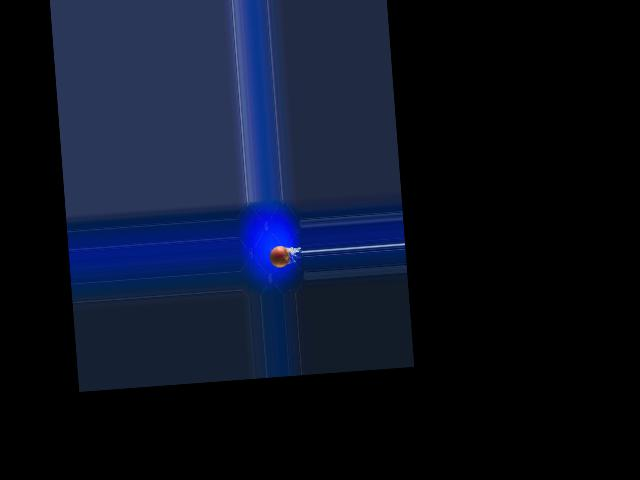tomato: (269, 245, 290, 268)
